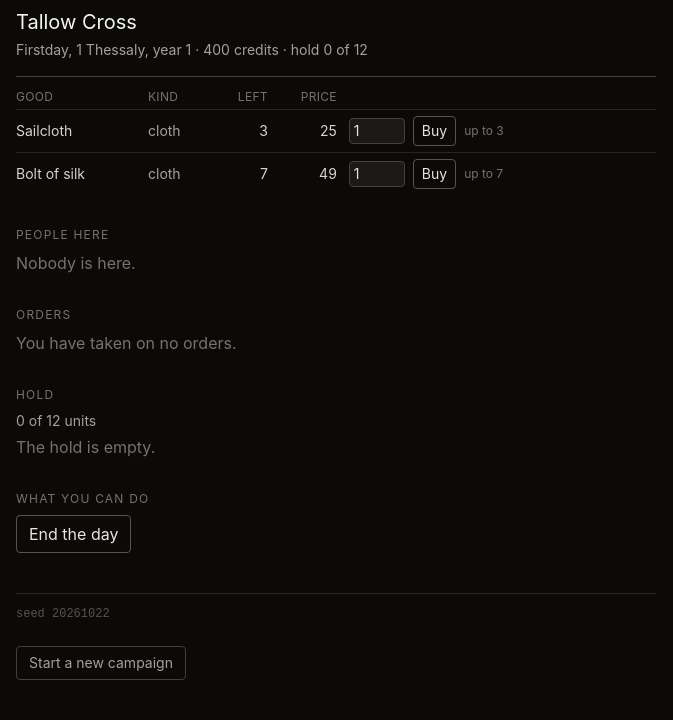
Test: the page › sends a command to the engine and renders the campaign that comes back
(page scrolled)
Click the button "End the day" at [74, 534], box top-left (16, 515), bottom-right (131, 553)
(page scrolled)
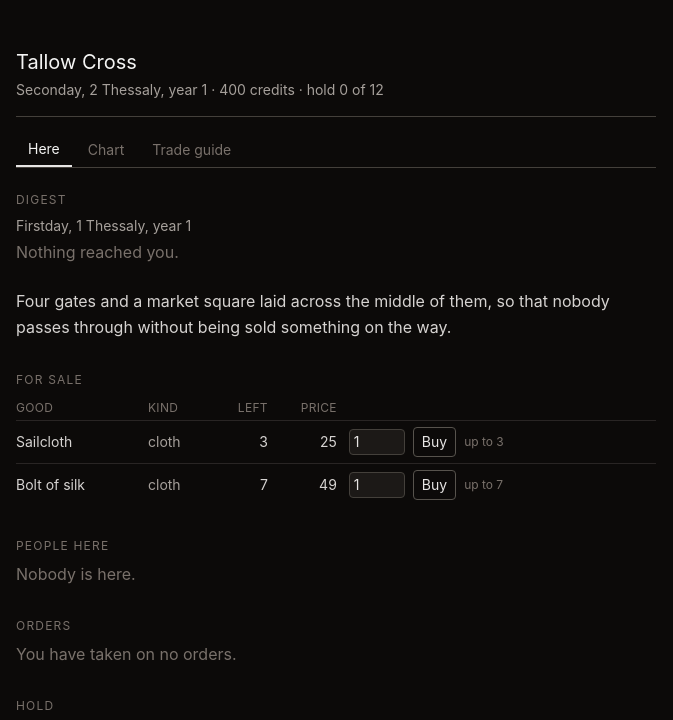
expect the text "Seconday, 2 Thessaly, year 1 · 400 credits · hold 0 of 12" is shown: met, box top-left (16, 81), bottom-right (384, 98)
expect the text "Nothing reached you." is shown: met, box top-left (16, 242), bottom-right (179, 262)
